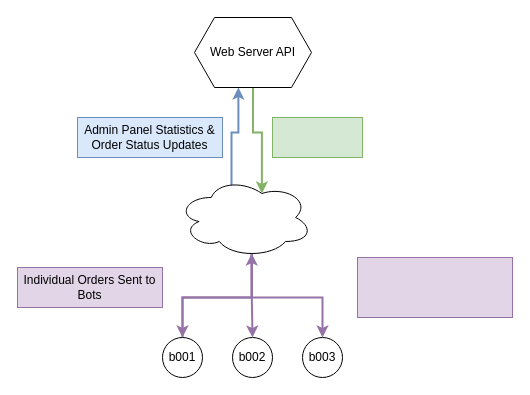
Image size: 530x395. Some labels were removed from this diagram. The shapes that lost their labels are listed below. From the top down, each one's box as (x1, y1, x2, y2) in pixels, then its label:
(272, 116, 362, 158): Orders to Execute
(176, 176, 312, 258): Control Center
(356, 256, 512, 318): Order Status Sent Back up the Chain along with Bot Metadata
